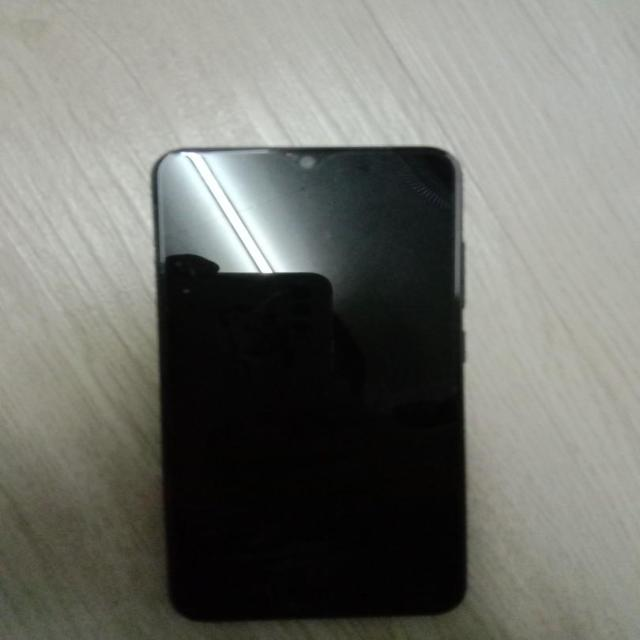mobile phone: (151, 145, 468, 622)
